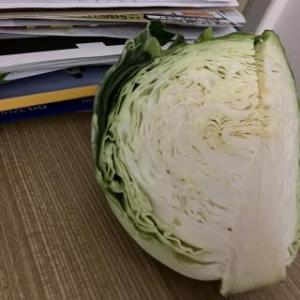cabbage: (90, 18, 300, 300)
